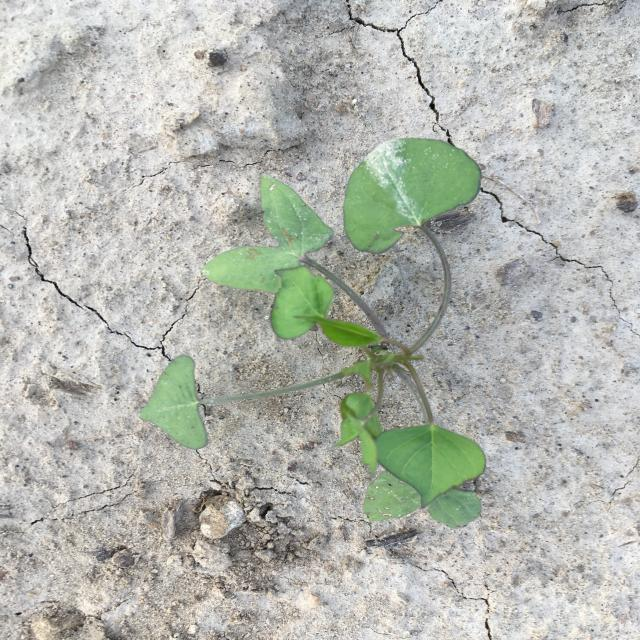MorningGlory: (138, 137, 486, 529)
